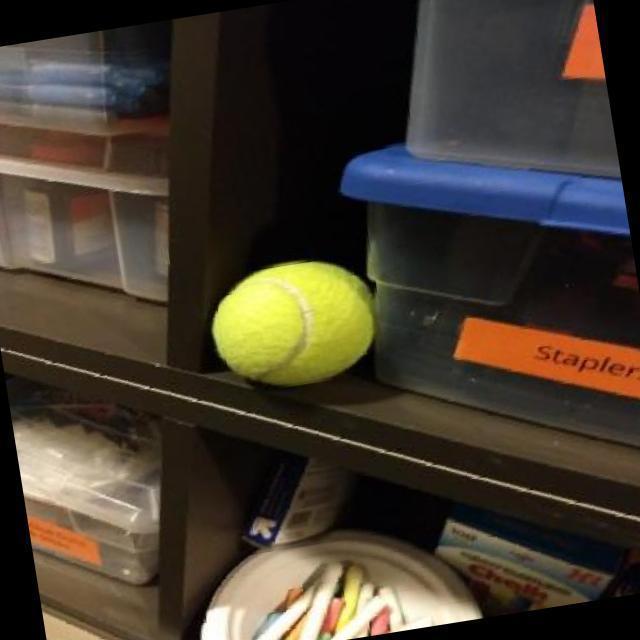-: (199, 236, 408, 397)
